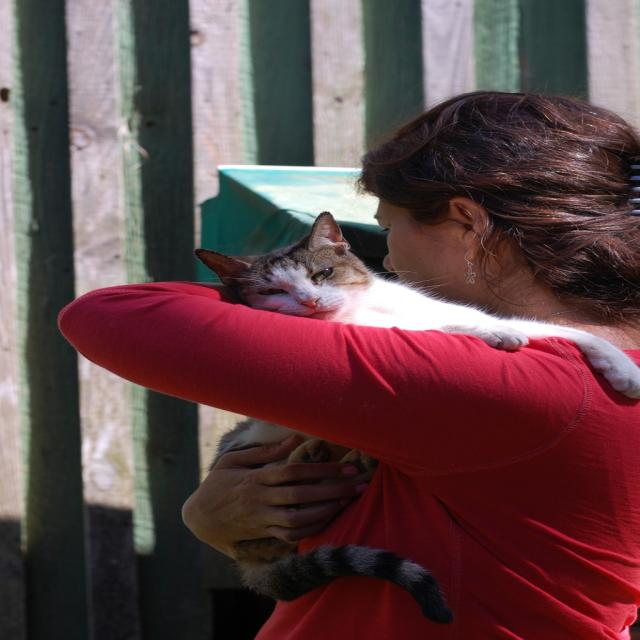Cat: (197, 209, 638, 624)
